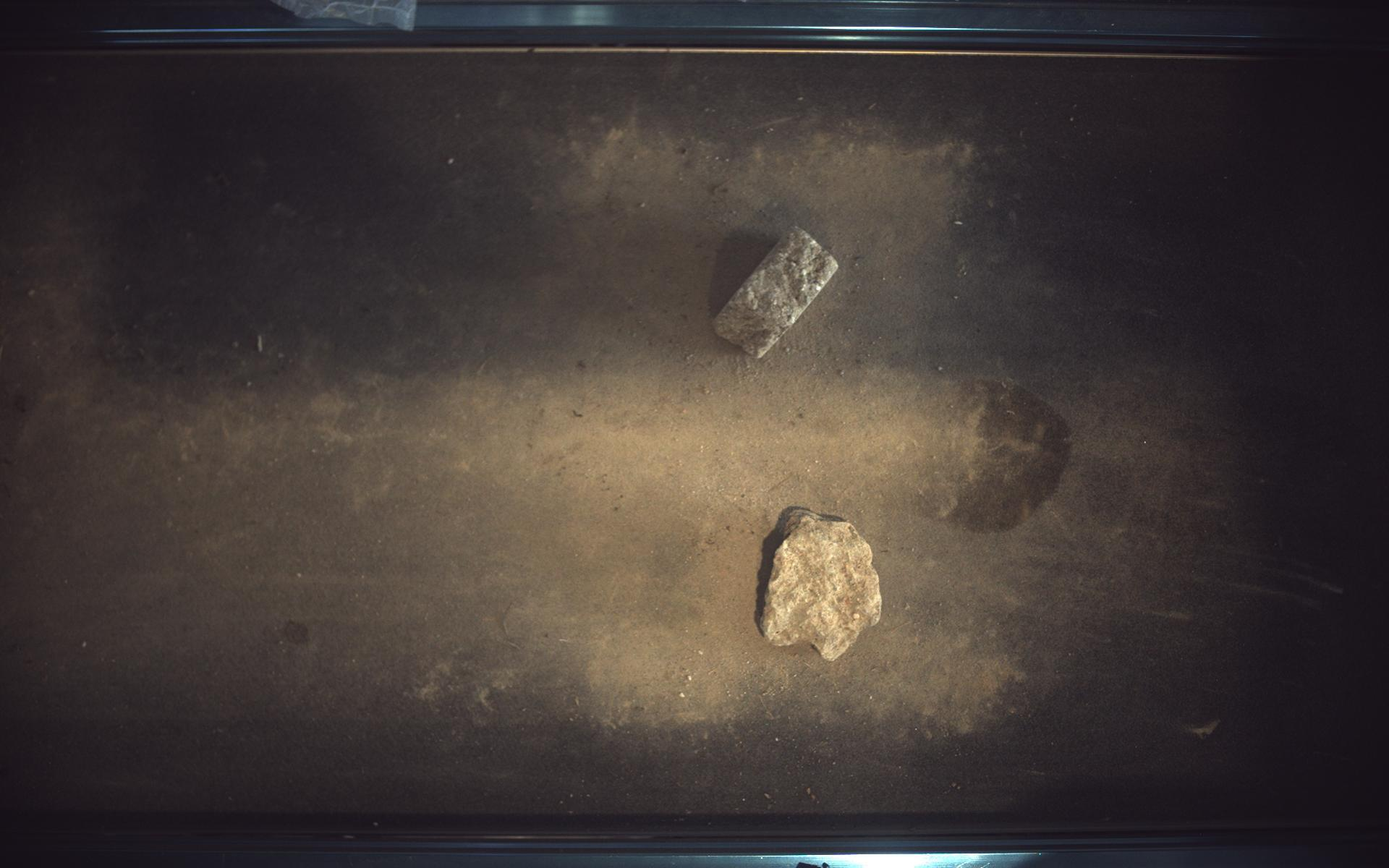stone: (762, 509, 883, 662), (715, 226, 839, 358)
